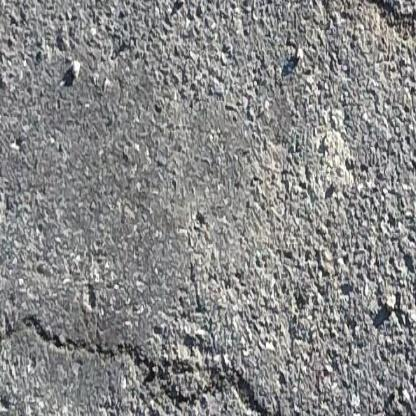Cracks: (0, 319, 416, 416), (348, 0, 416, 70)
